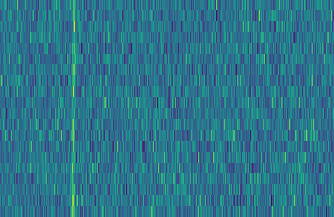signal: (66, 0, 76, 217)
